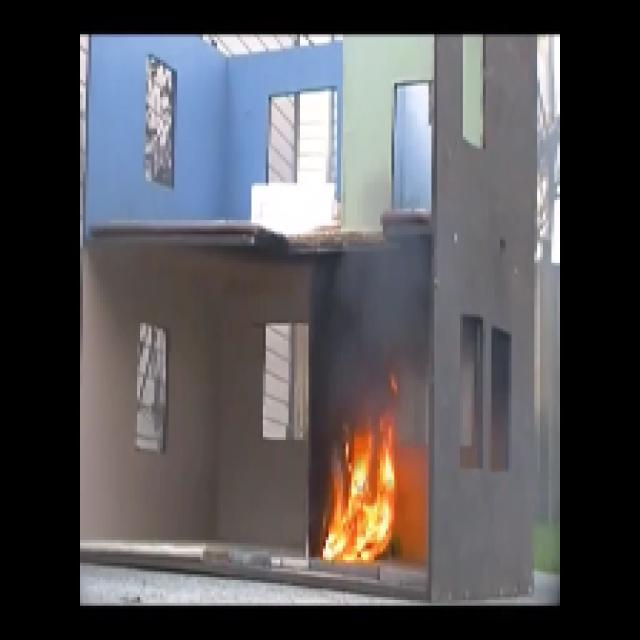fire: (320, 426, 399, 561)
smoke: (327, 262, 415, 371)
